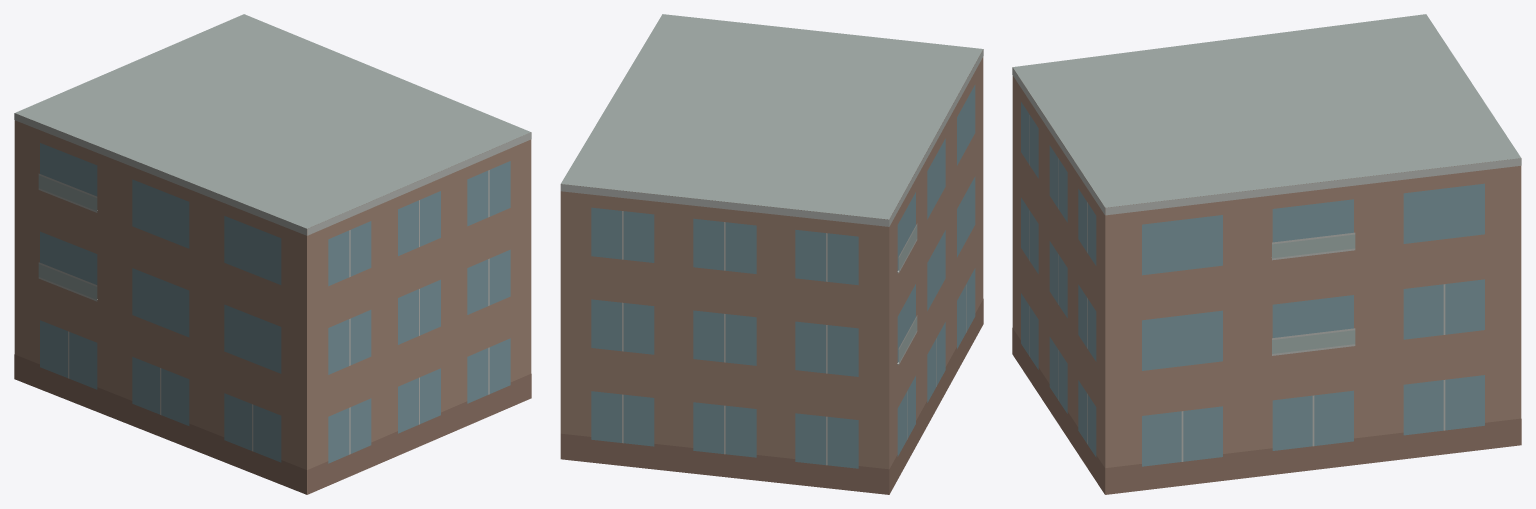
Rendered from survey-upis-32985668.glb.
The picture shows the model from 3 angles, left to right: view 1: azimuth 30°, elevation 25°; view 2: azimuth 150°, elevation 25°; view 3: azimuth 270°, elevation 25°; orthographic projection. The views are drawn at different scales.
Parts seen in each view (by area): view 1: survey-upis-32985668.tmp; view 2: survey-upis-32985668.tmp; view 3: survey-upis-32985668.tmp.
Part boxes in pixels (x1,y1,x2,y2): survey-upis-32985668.tmp: [14, 14, 531, 494]; survey-upis-32985668.tmp: [560, 14, 983, 494]; survey-upis-32985668.tmp: [1012, 14, 1521, 494].
Size of the model in its own units: 13.25 by 9.15 by 14.71.
